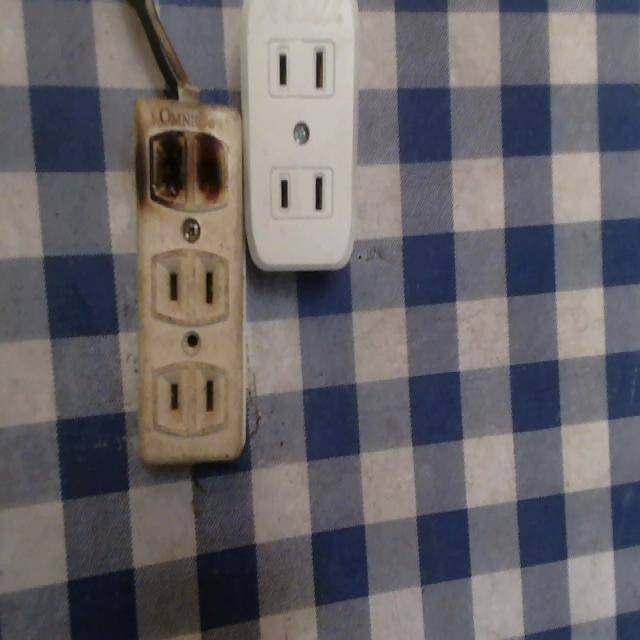-: (141, 113, 229, 220)
